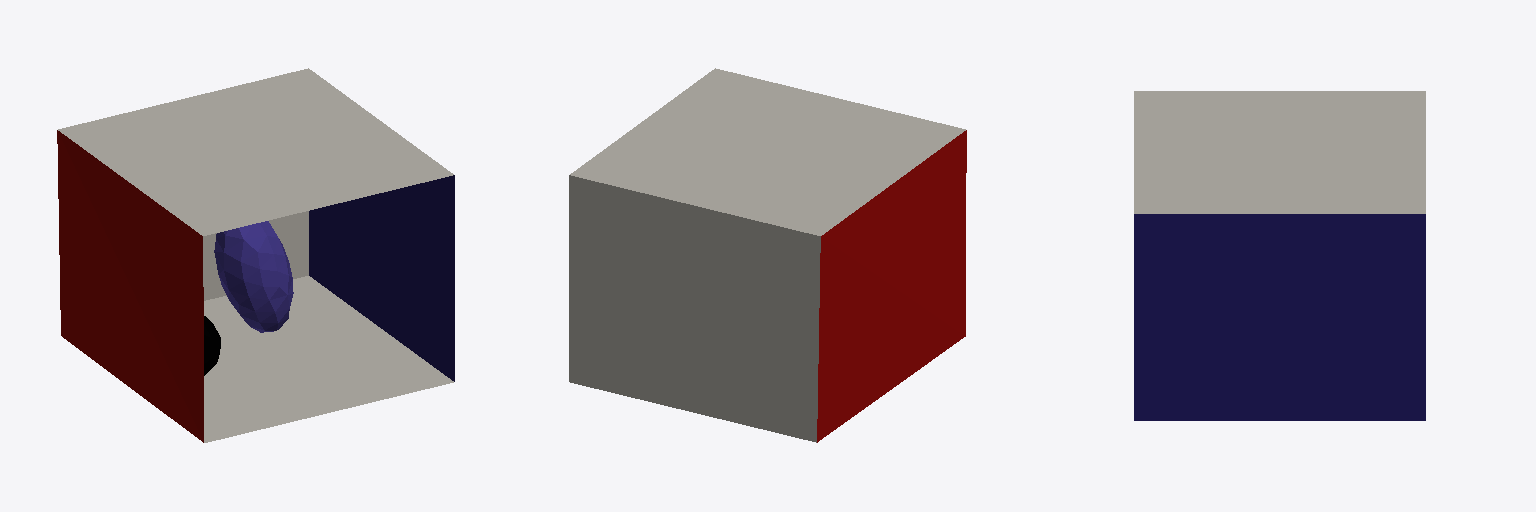
Rendered from CornellBox-Ellipsoid-298.obj.
3 renders of one model, left to right at view 1: azimuth 30°, elevation 25°; view 2: azimuth 150°, elevation 25°; view 3: azimuth 270°, elevation 25°, orthographic.
Visible parts, largest first — view 1: ceiling, leftWall, floor, rightWall, leftSphere, backWall, rightSphere; view 2: backWall, ceiling, leftWall; view 3: rightWall, ceiling.
Part boxes in pixels (x1,y1,x2,y2): ceiling: (58,68,453,235); leftWall: (57,130,203,442); floor: (204,276,453,442); rightWall: (309,175,454,381); leftSphere: (214,221,293,332); backWall: (203,211,308,300); rightSphere: (204,316,220,375); backWall: (569,175,820,442); ceiling: (570,68,965,235); leftWall: (817,130,966,442); rightWall: (1134,214,1425,420); ceiling: (1134,91,1425,213).
Bounding box in the file's own units: 2.02 × 1.59 × 2.03.